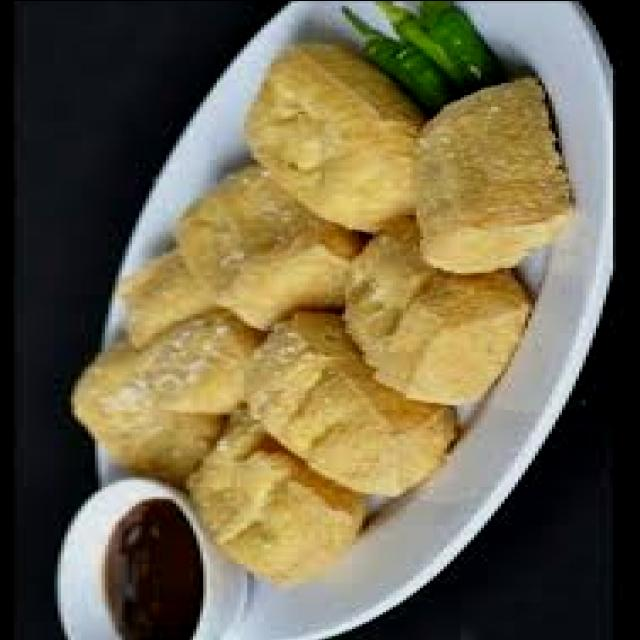tahu goreng: (247, 313, 461, 498), (342, 209, 535, 409), (183, 402, 376, 587), (247, 43, 427, 233), (413, 75, 576, 272), (179, 161, 366, 330)
